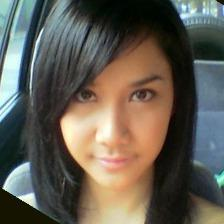Non hijab: (27, 0, 198, 224)
